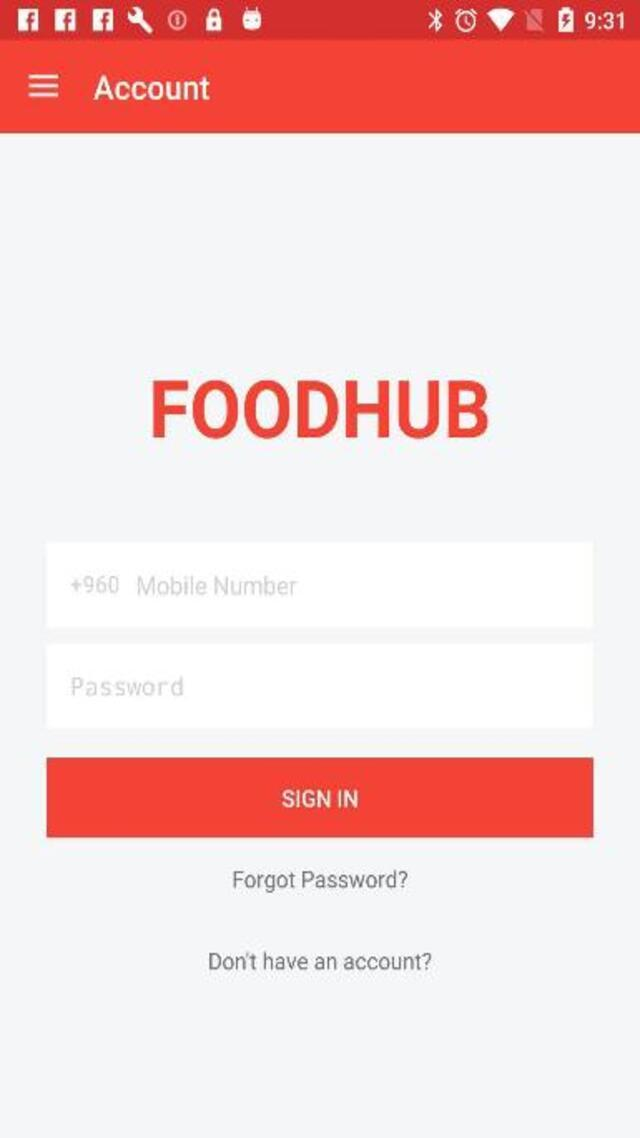Icon: (28, 74, 58, 97)
Text: (154, 380, 488, 438), (210, 950, 432, 970), (234, 868, 408, 892), (139, 575, 297, 595), (94, 74, 210, 100), (73, 676, 183, 697), (278, 787, 360, 811), (72, 577, 118, 593)
TextButton: (45, 756, 592, 836)
